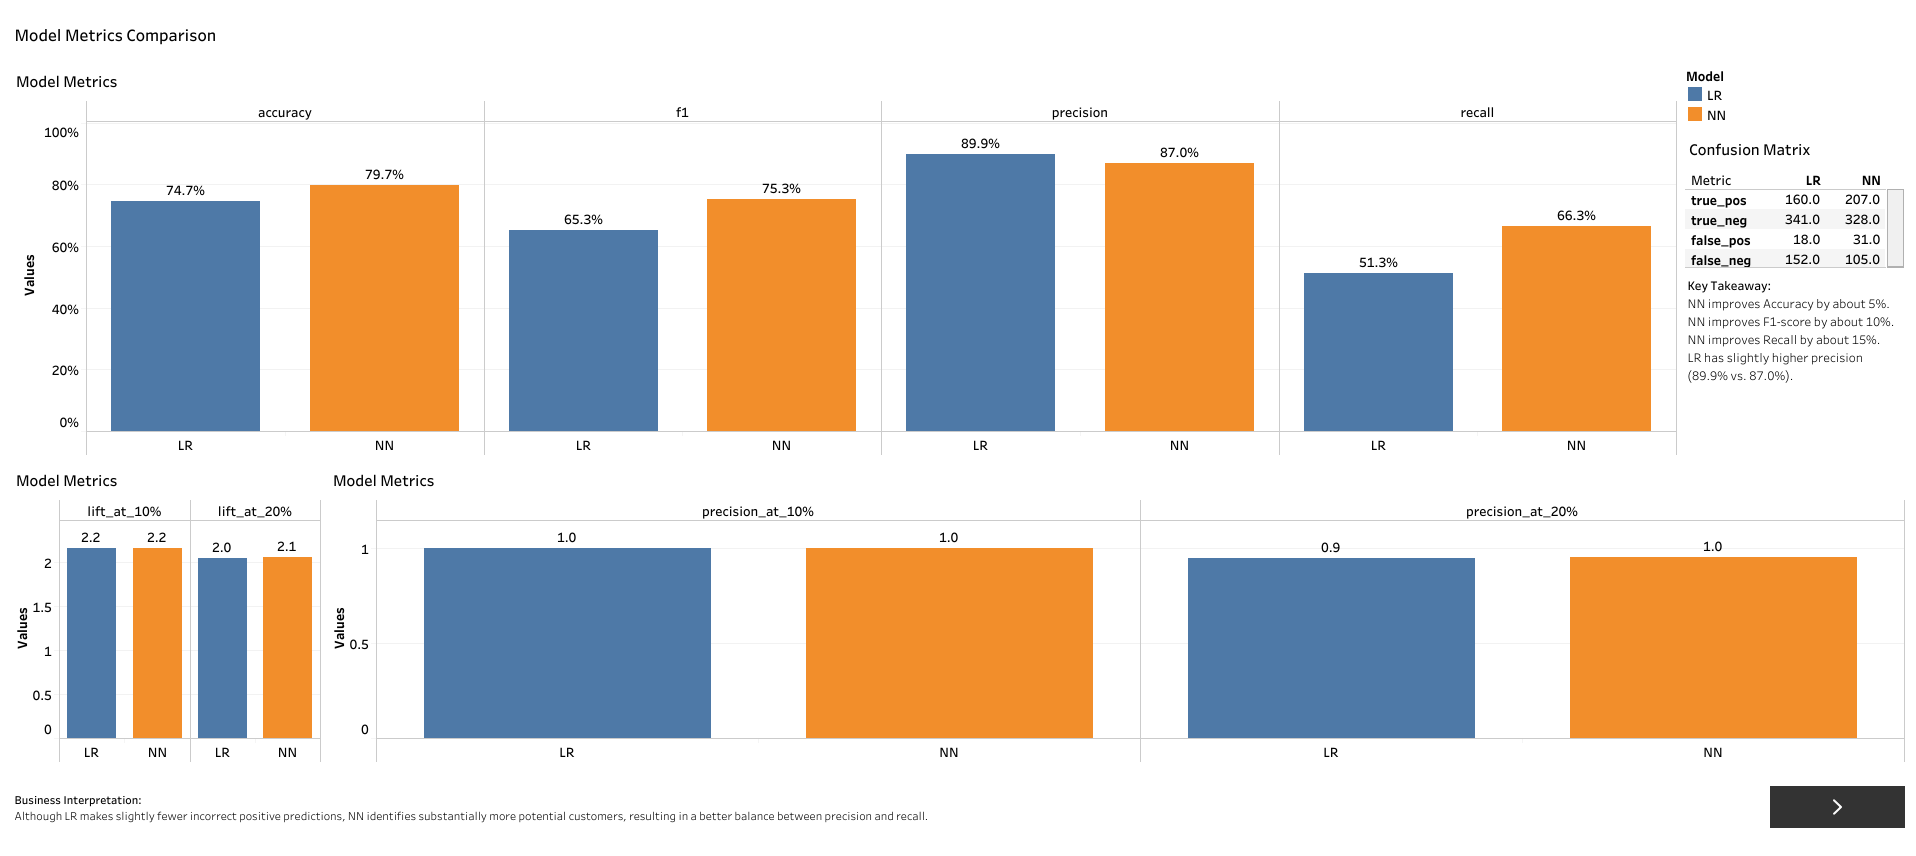

Layout of this report page (visuals, bound fields, positions):
{"tool":"tableau","page":{"name":"Model Metrics Comparison","canvas":[1000,1000],"units":"permille","ordinal":1},"visuals":[{"type":"text","box":[6.5,11.5,987,60.2]},{"type":"worksheet","title":"Acc,F1,Precision,Recall","mark":"Automatic","rows":["Pivot Field Values"],"cols":["metric","Pivot Field Names"],"box":[6.5,71.6,801.4,464.2]},{"type":"legend","title":"Acc,F1,Precision,Recall","param":"[federated.0w0giuf0962h5r14jc66o0mmgtmi].[none:Pivot Field Names:nk]","box":[807.9,71.6,185.5,96.1]},{"type":"worksheet","title":"Confusion Matrix","mark":"Automatic","rows":["metric"],"cols":["Pivot Field Names"],"box":[807.9,167.8,185.5,208]},{"type":"text","box":[807.9,375.8,185.5,157.8]},{"type":"worksheet","title":"Lift@topK","mark":"Automatic","rows":["Pivot Field Values"],"cols":["metric","Pivot Field Names"],"box":[6.5,535.8,458.1,356.7]},{"type":"worksheet","title":"Precision@topK","mark":"Automatic","rows":["Pivot Field Values"],"cols":["metric","Pivot Field Names"],"box":[464.6,535.8,528.9,356.7]},{"type":"text","box":[6.5,892.5,912.9,96]},{"type":"dashboard-object","box":[919.5,892.5,74,96]}]}

Visuals, with their boxes on the dashboard's canvas, which has no fixed pixel size, in thousandths of its width and height (x1, y1, x2, y2). These are canvas units, not pixel positions in the 1916x856 screenshot, which may show the page scaled, cropped or inside an application window:
text: {"x1": 6, "y1": 12, "x2": 994, "y2": 72}
"Acc,F1,Precision,Recall" worksheet: {"x1": 6, "y1": 72, "x2": 808, "y2": 536}
"Acc,F1,Precision,Recall" legend: {"x1": 808, "y1": 72, "x2": 993, "y2": 168}
"Confusion Matrix" worksheet: {"x1": 808, "y1": 168, "x2": 993, "y2": 376}
text: {"x1": 808, "y1": 376, "x2": 993, "y2": 534}
"Lift@topK" worksheet: {"x1": 6, "y1": 536, "x2": 465, "y2": 892}
"Precision@topK" worksheet: {"x1": 465, "y1": 536, "x2": 994, "y2": 892}
text: {"x1": 6, "y1": 892, "x2": 919, "y2": 988}
dashboard-object: {"x1": 920, "y1": 892, "x2": 994, "y2": 988}
